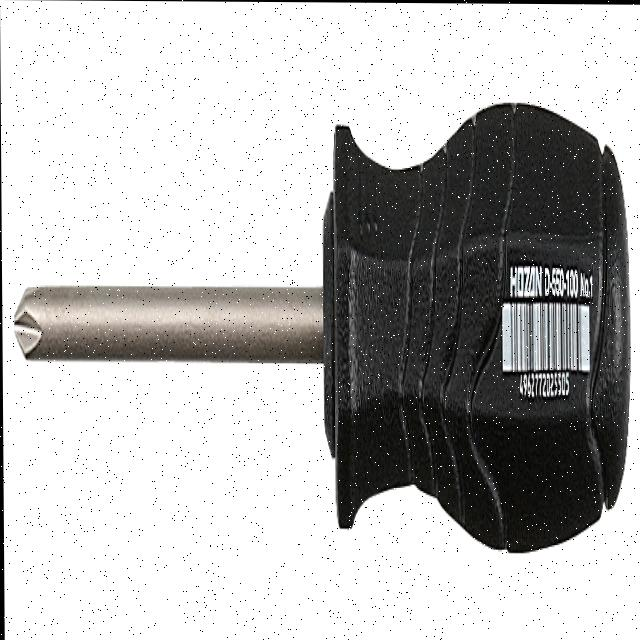Screwdriver: (14, 102, 630, 552)
